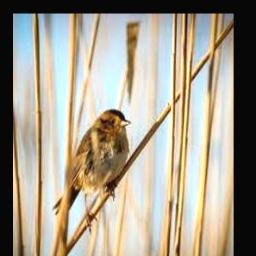Sparrow: (53, 108, 131, 232)
